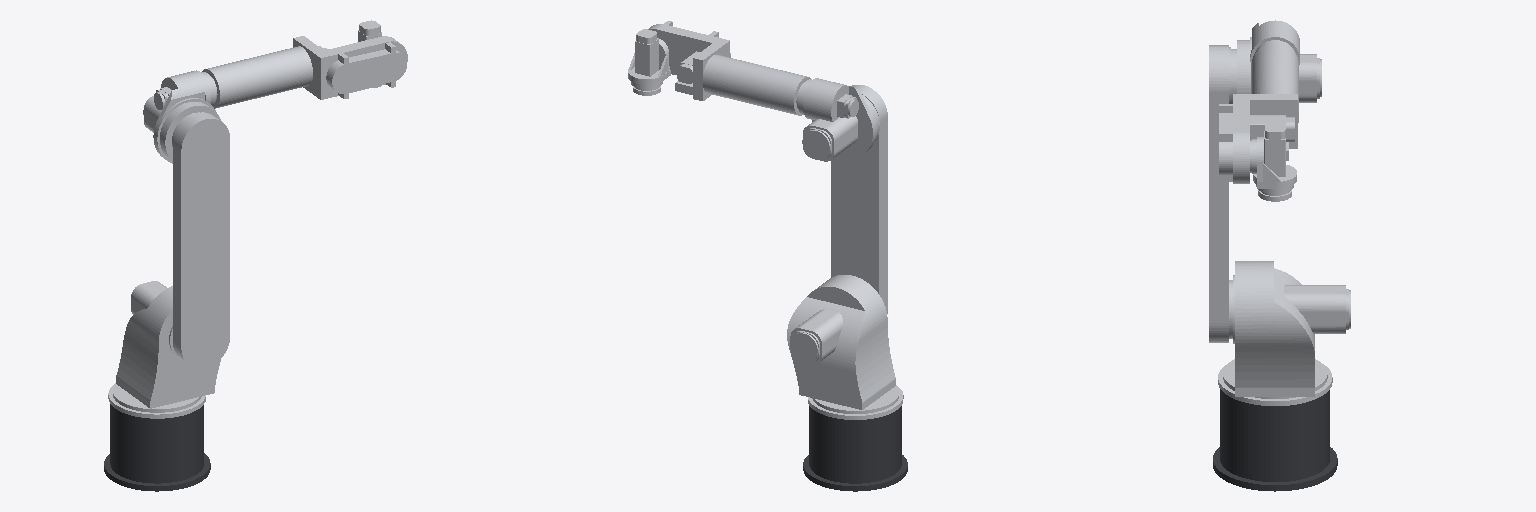
URDF robot description (rosie_1000):
<?xml version="1.0"?>
<!-- Rosie 1000 by Advanced Metal Research, sim kit 2026-10-09: https://advancedmetalresearch.com/assets/sim/1000/
     Units m, kg, rad. Zero pose = home (tool flange facing down). tool0 = flange face, z out of the flange.
     Mesh paths are relative to this file; launch/display.launch.py rewrites them to package:// for ROS 2.
     Visual and collision meshes are the robot's real outside surfaces: one filled solid per link, structural parts' own CAD faces,
     motors and gearboxes as plain envelopes of the same size. Inertials are the robot's real mass properties. -->
<robot name="rosie_1000">
  <material name="rosie_grey"><color rgba="0.82 0.83 0.85 1"/></material>
  <material name="rosie_dark"><color rgba="0.30 0.31 0.33 1"/></material>
  <link name="base_footprint"/>
  <joint name="base_footprint_joint" type="fixed">
    <parent link="base_footprint"/><child link="base_link"/>
    <origin xyz="0 0 0.175" rpy="0 0 0"/>
  </joint>
  <link name="base_link">
    <inertial>
      <origin xyz="0.0002 -0.00001 -0.0815" rpy="0 0 0"/>
      <mass value="7.775"/>
      <inertia ixx="0.048026" ixy="-0.000003" ixz="0.00004" iyy="0.047835" iyz="-0.000009" izz="0.041679"/>
    </inertial>
    <visual>
      <origin xyz="0 0 0" rpy="0 0 0"/>
      <geometry><mesh filename="../meshes/visual/base_link.stl"/></geometry>
      <material name="rosie_dark"/>
    </visual>
    <collision>
      <origin xyz="0 0 0" rpy="0 0 0"/>
      <geometry><mesh filename="../meshes/collision/base_link_c00.stl"/></geometry>
    </collision>
    <collision>
      <origin xyz="0 0 0" rpy="0 0 0"/>
      <geometry><mesh filename="../meshes/collision/base_link_c01.stl"/></geometry>
    </collision>
    <collision>
      <origin xyz="0 0 0" rpy="0 0 0"/>
      <geometry><mesh filename="../meshes/collision/base_link_c02.stl"/></geometry>
    </collision>
    <collision>
      <origin xyz="0 0 0" rpy="0 0 0"/>
      <geometry><mesh filename="../meshes/collision/base_link_c03.stl"/></geometry>
    </collision>
    <collision>
      <origin xyz="0 0 0" rpy="0 0 0"/>
      <geometry><mesh filename="../meshes/collision/base_link_c04.stl"/></geometry>
    </collision>
    <collision>
      <origin xyz="0 0 0" rpy="0 0 0"/>
      <geometry><mesh filename="../meshes/collision/base_link_c05.stl"/></geometry>
    </collision>
    <collision>
      <origin xyz="0 0 0" rpy="0 0 0"/>
      <geometry><mesh filename="../meshes/collision/base_link_c06.stl"/></geometry>
    </collision>
    <collision>
      <origin xyz="0 0 0" rpy="0 0 0"/>
      <geometry><mesh filename="../meshes/collision/base_link_c07.stl"/></geometry>
    </collision>
    <collision>
      <origin xyz="0 0 0" rpy="0 0 0"/>
      <geometry><mesh filename="../meshes/collision/base_link_c08.stl"/></geometry>
    </collision>
    <collision>
      <origin xyz="0 0 0" rpy="0 0 0"/>
      <geometry><mesh filename="../meshes/collision/base_link_c09.stl"/></geometry>
    </collision>
  </link>
  <joint name="J1" type="revolute">
    <parent link="base_link"/><child link="link_1"/>
    <origin xyz="0 0 0" rpy="0 0 0"/>
    <axis xyz="0 0 1"/>
    <limit lower="-2.96706" upper="2.96706" effort="157" velocity="5.8643"/>
    <dynamics damping="2" friction="0"/>
  </joint>
  <link name="link_1">
    <inertial>
      <origin xyz="0.0379 0.00207 0.12031" rpy="0 0 0"/>
      <mass value="11.9522"/>
      <inertia ixx="0.098707" ixy="-0.000557" ixz="-0.014692" iyy="0.092492" iyz="-0.00138" izz="0.060327"/>
    </inertial>
    <visual>
      <origin xyz="0 0 0" rpy="0 0 0"/>
      <geometry><mesh filename="../meshes/visual/link_1.stl"/></geometry>
      <material name="rosie_grey"/>
    </visual>
    <collision>
      <origin xyz="0 0 0" rpy="0 0 0"/>
      <geometry><mesh filename="../meshes/collision/link_1_c00.stl"/></geometry>
    </collision>
    <collision>
      <origin xyz="0 0 0" rpy="0 0 0"/>
      <geometry><mesh filename="../meshes/collision/link_1_c01.stl"/></geometry>
    </collision>
    <collision>
      <origin xyz="0 0 0" rpy="0 0 0"/>
      <geometry><mesh filename="../meshes/collision/link_1_c02.stl"/></geometry>
    </collision>
    <collision>
      <origin xyz="0 0 0" rpy="0 0 0"/>
      <geometry><mesh filename="../meshes/collision/link_1_c03.stl"/></geometry>
    </collision>
    <collision>
      <origin xyz="0 0 0" rpy="0 0 0"/>
      <geometry><mesh filename="../meshes/collision/link_1_c04.stl"/></geometry>
    </collision>
    <collision>
      <origin xyz="0 0 0" rpy="0 0 0"/>
      <geometry><mesh filename="../meshes/collision/link_1_c05.stl"/></geometry>
    </collision>
    <collision>
      <origin xyz="0 0 0" rpy="0 0 0"/>
      <geometry><mesh filename="../meshes/collision/link_1_c06.stl"/></geometry>
    </collision>
    <collision>
      <origin xyz="0 0 0" rpy="0 0 0"/>
      <geometry><mesh filename="../meshes/collision/link_1_c07.stl"/></geometry>
    </collision>
    <collision>
      <origin xyz="0 0 0" rpy="0 0 0"/>
      <geometry><mesh filename="../meshes/collision/link_1_c08.stl"/></geometry>
    </collision>
    <collision>
      <origin xyz="0 0 0" rpy="0 0 0"/>
      <geometry><mesh filename="../meshes/collision/link_1_c09.stl"/></geometry>
    </collision>
  </link>
  <joint name="J2" type="revolute">
    <parent link="link_1"/><child link="link_2"/>
    <origin xyz="0.05 0 0.165" rpy="0 0 0"/>
    <axis xyz="0 1 0"/>
    <limit lower="-1.919862" upper="1.919862" effort="568" velocity="4.1888"/>
    <dynamics damping="4" friction="0"/>
  </joint>
  <link name="link_2">
    <inertial>
      <origin xyz="0 -0.09159 0.19738" rpy="0 0 0"/>
      <mass value="5.8735"/>
      <inertia ixx="0.259579" ixy="0" ixz="0" iyy="0.264619" iyz="0.001442" izz="0.006976"/>
    </inertial>
    <visual>
      <origin xyz="0 0 0" rpy="0 0 0"/>
      <geometry><mesh filename="../meshes/visual/link_2.stl"/></geometry>
      <material name="rosie_grey"/>
    </visual>
    <collision>
      <origin xyz="0 0 0" rpy="0 0 0"/>
      <geometry><mesh filename="../meshes/collision/link_2_c00.stl"/></geometry>
    </collision>
  </link>
  <joint name="J3" type="revolute">
    <parent link="link_2"/><child link="link_3"/>
    <origin xyz="0 0 0.47" rpy="0 0 0"/>
    <axis xyz="0 1 0"/>
    <limit lower="-2.617994" upper="2.617994" effort="333" velocity="5.0265"/>
    <dynamics damping="2" friction="0"/>
  </joint>
  <link name="link_3">
    <inertial>
      <origin xyz="0.00664 -0.01577 0.01191" rpy="0 0 0"/>
      <mass value="6.0216"/>
      <inertia ixx="0.020413" ixy="-0.000573" ixz="-0.002134" iyy="0.016658" iyz="-0.000999" izz="0.018205"/>
    </inertial>
    <visual>
      <origin xyz="0 0 0" rpy="0 0 0"/>
      <geometry><mesh filename="../meshes/visual/link_3.stl"/></geometry>
      <material name="rosie_grey"/>
    </visual>
    <collision>
      <origin xyz="0 0 0" rpy="0 0 0"/>
      <geometry><mesh filename="../meshes/collision/link_3_c00.stl"/></geometry>
    </collision>
    <collision>
      <origin xyz="0 0 0" rpy="0 0 0"/>
      <geometry><mesh filename="../meshes/collision/link_3_c01.stl"/></geometry>
    </collision>
    <collision>
      <origin xyz="0 0 0" rpy="0 0 0"/>
      <geometry><mesh filename="../meshes/collision/link_3_c02.stl"/></geometry>
    </collision>
    <collision>
      <origin xyz="0 0 0" rpy="0 0 0"/>
      <geometry><mesh filename="../meshes/collision/link_3_c03.stl"/></geometry>
    </collision>
    <collision>
      <origin xyz="0 0 0" rpy="0 0 0"/>
      <geometry><mesh filename="../meshes/collision/link_3_c04.stl"/></geometry>
    </collision>
    <collision>
      <origin xyz="0 0 0" rpy="0 0 0"/>
      <geometry><mesh filename="../meshes/collision/link_3_c05.stl"/></geometry>
    </collision>
    <collision>
      <origin xyz="0 0 0" rpy="0 0 0"/>
      <geometry><mesh filename="../meshes/collision/link_3_c06.stl"/></geometry>
    </collision>
    <collision>
      <origin xyz="0 0 0" rpy="0 0 0"/>
      <geometry><mesh filename="../meshes/collision/link_3_c07.stl"/></geometry>
    </collision>
    <collision>
      <origin xyz="0 0 0" rpy="0 0 0"/>
      <geometry><mesh filename="../meshes/collision/link_3_c08.stl"/></geometry>
    </collision>
    <collision>
      <origin xyz="0 0 0" rpy="0 0 0"/>
      <geometry><mesh filename="../meshes/collision/link_3_c09.stl"/></geometry>
    </collision>
  </link>
  <joint name="J4" type="revolute">
    <parent link="link_3"/><child link="link_4"/>
    <origin xyz="0.081 0 0.065" rpy="0 0 0"/>
    <axis xyz="1 0 0"/>
    <limit lower="-3.141593" upper="3.141593" effort="54" velocity="6.2832"/>
    <dynamics damping="0.5" friction="0"/>
  </joint>
  <link name="link_4">
    <inertial>
      <origin xyz="0.22594 -0.02691 -0.00169" rpy="0 0 0"/>
      <mass value="5.3544"/>
      <inertia ixx="0.011498" ixy="0.016226" ixz="0.000524" iyy="0.092199" iyz="0.000101" izz="0.095824"/>
    </inertial>
    <visual>
      <origin xyz="0 0 0" rpy="0 0 0"/>
      <geometry><mesh filename="../meshes/visual/link_4.stl"/></geometry>
      <material name="rosie_grey"/>
    </visual>
    <collision>
      <origin xyz="0 0 0" rpy="0 0 0"/>
      <geometry><mesh filename="../meshes/collision/link_4_c00.stl"/></geometry>
    </collision>
    <collision>
      <origin xyz="0 0 0" rpy="0 0 0"/>
      <geometry><mesh filename="../meshes/collision/link_4_c01.stl"/></geometry>
    </collision>
    <collision>
      <origin xyz="0 0 0" rpy="0 0 0"/>
      <geometry><mesh filename="../meshes/collision/link_4_c02.stl"/></geometry>
    </collision>
    <collision>
      <origin xyz="0 0 0" rpy="0 0 0"/>
      <geometry><mesh filename="../meshes/collision/link_4_c03.stl"/></geometry>
    </collision>
    <collision>
      <origin xyz="0 0 0" rpy="0 0 0"/>
      <geometry><mesh filename="../meshes/collision/link_4_c04.stl"/></geometry>
    </collision>
    <collision>
      <origin xyz="0 0 0" rpy="0 0 0"/>
      <geometry><mesh filename="../meshes/collision/link_4_c05.stl"/></geometry>
    </collision>
  </link>
  <joint name="J5" type="revolute">
    <parent link="link_4"/><child link="link_5"/>
    <origin xyz="0.399 0 0" rpy="0 0 0"/>
    <axis xyz="0 1 0"/>
    <limit lower="-2.181662" upper="2.181662" effort="54" velocity="6.2832"/>
    <dynamics damping="0.5" friction="0"/>
  </joint>
  <link name="link_5">
    <inertial>
      <origin xyz="0.00001 -0.01272 -0.01648" rpy="0 0 0"/>
      <mass value="1.3356"/>
      <inertia ixx="0.001668" ixy="0.000005" ixz="-0.000002" iyy="0.001536" iyz="0.00024" izz="0.00097"/>
    </inertial>
    <visual>
      <origin xyz="0 0 0" rpy="0 0 0"/>
      <geometry><mesh filename="../meshes/visual/link_5.stl"/></geometry>
      <material name="rosie_grey"/>
    </visual>
    <collision>
      <origin xyz="0 0 0" rpy="0 0 0"/>
      <geometry><mesh filename="../meshes/collision/link_5_c00.stl"/></geometry>
    </collision>
    <collision>
      <origin xyz="0 0 0" rpy="0 0 0"/>
      <geometry><mesh filename="../meshes/collision/link_5_c01.stl"/></geometry>
    </collision>
    <collision>
      <origin xyz="0 0 0" rpy="0 0 0"/>
      <geometry><mesh filename="../meshes/collision/link_5_c02.stl"/></geometry>
    </collision>
    <collision>
      <origin xyz="0 0 0" rpy="0 0 0"/>
      <geometry><mesh filename="../meshes/collision/link_5_c03.stl"/></geometry>
    </collision>
    <collision>
      <origin xyz="0 0 0" rpy="0 0 0"/>
      <geometry><mesh filename="../meshes/collision/link_5_c04.stl"/></geometry>
    </collision>
    <collision>
      <origin xyz="0 0 0" rpy="0 0 0"/>
      <geometry><mesh filename="../meshes/collision/link_5_c05.stl"/></geometry>
    </collision>
    <collision>
      <origin xyz="0 0 0" rpy="0 0 0"/>
      <geometry><mesh filename="../meshes/collision/link_5_c06.stl"/></geometry>
    </collision>
    <collision>
      <origin xyz="0 0 0" rpy="0 0 0"/>
      <geometry><mesh filename="../meshes/collision/link_5_c07.stl"/></geometry>
    </collision>
    <collision>
      <origin xyz="0 0 0" rpy="0 0 0"/>
      <geometry><mesh filename="../meshes/collision/link_5_c08.stl"/></geometry>
    </collision>
    <collision>
      <origin xyz="0 0 0" rpy="0 0 0"/>
      <geometry><mesh filename="../meshes/collision/link_5_c09.stl"/></geometry>
    </collision>
  </link>
  <joint name="J6" type="revolute">
    <parent link="link_5"/><child link="link_6"/>
    <origin xyz="0 0 -0.07725" rpy="0 0 0"/>
    <axis xyz="0 0 1"/>
    <limit lower="-3.141593" upper="3.141593" effort="28" velocity="6.2832"/>
    <dynamics damping="0.5" friction="0"/>
  </joint>
  <link name="link_6">
    <inertial>
      <origin xyz="-0.00006 0 0.01074" rpy="0 0 0"/>
      <mass value="0.2413"/>
      <inertia ixx="0.000051" ixy="0" ixz="0" iyy="0.00005" iyz="0" izz="0.000094"/>
    </inertial>
    <visual>
      <origin xyz="0 0 0" rpy="0 0 0"/>
      <geometry><mesh filename="../meshes/visual/link_6.stl"/></geometry>
      <material name="rosie_grey"/>
    </visual>
    <collision>
      <origin xyz="0 0 0" rpy="0 0 0"/>
      <geometry><mesh filename="../meshes/collision/link_6_c00.stl"/></geometry>
    </collision>
    <collision>
      <origin xyz="0 0 0" rpy="0 0 0"/>
      <geometry><mesh filename="../meshes/collision/link_6_c01.stl"/></geometry>
    </collision>
    <collision>
      <origin xyz="0 0 0" rpy="0 0 0"/>
      <geometry><mesh filename="../meshes/collision/link_6_c02.stl"/></geometry>
    </collision>
    <collision>
      <origin xyz="0 0 0" rpy="0 0 0"/>
      <geometry><mesh filename="../meshes/collision/link_6_c03.stl"/></geometry>
    </collision>
    <collision>
      <origin xyz="0 0 0" rpy="0 0 0"/>
      <geometry><mesh filename="../meshes/collision/link_6_c04.stl"/></geometry>
    </collision>
    <collision>
      <origin xyz="0 0 0" rpy="0 0 0"/>
      <geometry><mesh filename="../meshes/collision/link_6_c05.stl"/></geometry>
    </collision>
    <collision>
      <origin xyz="0 0 0" rpy="0 0 0"/>
      <geometry><mesh filename="../meshes/collision/link_6_c06.stl"/></geometry>
    </collision>
    <collision>
      <origin xyz="0 0 0" rpy="0 0 0"/>
      <geometry><mesh filename="../meshes/collision/link_6_c07.stl"/></geometry>
    </collision>
    <collision>
      <origin xyz="0 0 0" rpy="0 0 0"/>
      <geometry><mesh filename="../meshes/collision/link_6_c08.stl"/></geometry>
    </collision>
    <collision>
      <origin xyz="0 0 0" rpy="0 0 0"/>
      <geometry><mesh filename="../meshes/collision/link_6_c09.stl"/></geometry>
    </collision>
  </link>
  <joint name="tool0_joint" type="fixed">
    <parent link="link_6"/><child link="tool0"/>
    <origin xyz="0 0 0" rpy="3.141592653589793 0 0"/>
  </joint>
  <link name="tool0">
    <inertial><origin xyz="0 0 0" rpy="0 0 0"/><mass value="1e-06"/><inertia ixx="1e-12" ixy="0" ixz="0" iyy="1e-12" iyz="0" izz="1e-12"/></inertial>
  </link>
  <transmission name="J1_transmission">
    <type>transmission_interface/SimpleTransmission</type>
    <joint name="J1"><hardwareInterface>hardware_interface/PositionJointInterface</hardwareInterface></joint>
    <actuator name="J1_motor"><mechanicalReduction>1</mechanicalReduction></actuator>
  </transmission>
  <transmission name="J2_transmission">
    <type>transmission_interface/SimpleTransmission</type>
    <joint name="J2"><hardwareInterface>hardware_interface/PositionJointInterface</hardwareInterface></joint>
    <actuator name="J2_motor"><mechanicalReduction>1</mechanicalReduction></actuator>
  </transmission>
  <transmission name="J3_transmission">
    <type>transmission_interface/SimpleTransmission</type>
    <joint name="J3"><hardwareInterface>hardware_interface/PositionJointInterface</hardwareInterface></joint>
    <actuator name="J3_motor"><mechanicalReduction>1</mechanicalReduction></actuator>
  </transmission>
  <transmission name="J4_transmission">
    <type>transmission_interface/SimpleTransmission</type>
    <joint name="J4"><hardwareInterface>hardware_interface/PositionJointInterface</hardwareInterface></joint>
    <actuator name="J4_motor"><mechanicalReduction>1</mechanicalReduction></actuator>
  </transmission>
  <transmission name="J5_transmission">
    <type>transmission_interface/SimpleTransmission</type>
    <joint name="J5"><hardwareInterface>hardware_interface/PositionJointInterface</hardwareInterface></joint>
    <actuator name="J5_motor"><mechanicalReduction>1</mechanicalReduction></actuator>
  </transmission>
  <transmission name="J6_transmission">
    <type>transmission_interface/SimpleTransmission</type>
    <joint name="J6"><hardwareInterface>hardware_interface/PositionJointInterface</hardwareInterface></joint>
    <actuator name="J6_motor"><mechanicalReduction>1</mechanicalReduction></actuator>
  </transmission>
</robot>

--- Facts derived from the render (not from the file) ---
Views: 3 orthographic renders of the robot side by side, from view 1: azimuth 30°, elevation 25°; view 2: azimuth 150°, elevation 25°; view 3: azimuth 270°, elevation 25°.
Robot: rosie_1000 — 9 links, 8 joints (6 revolute, 2 fixed); root link base_footprint; default pose: all joints at 0.
Visible links, largest first — view 1: link_2, link_4, link_1, base_link, link_3; view 2: link_1, link_2, link_4, base_link, link_3, link_5; view 3: link_1, base_link, link_4, link_2, link_3, link_5.
Link boxes in pixels (x1,y1,x2,y2): link_2: (173, 112, 229, 368); link_4: (202, 36, 407, 108); link_1: (108, 281, 220, 418); base_link: (104, 404, 210, 491); link_3: (143, 70, 220, 163); link_1: (787, 275, 903, 419); link_2: (831, 85, 887, 313); link_4: (648, 21, 810, 115); base_link: (803, 406, 907, 491); link_3: (798, 78, 879, 161); link_5: (628, 29, 670, 89); link_1: (1218, 261, 1350, 405); base_link: (1213, 389, 1337, 491); link_4: (1219, 43, 1298, 183); link_2: (1209, 45, 1230, 342); link_3: (1231, 20, 1321, 103); link_5: (1253, 123, 1296, 193).
Size in the robot's own frame: 0.695 by 0.2635 by 0.9342 metres.
Meshes: 7 distinct files referenced, 7 mesh visuals loaded (7 binary STL).
